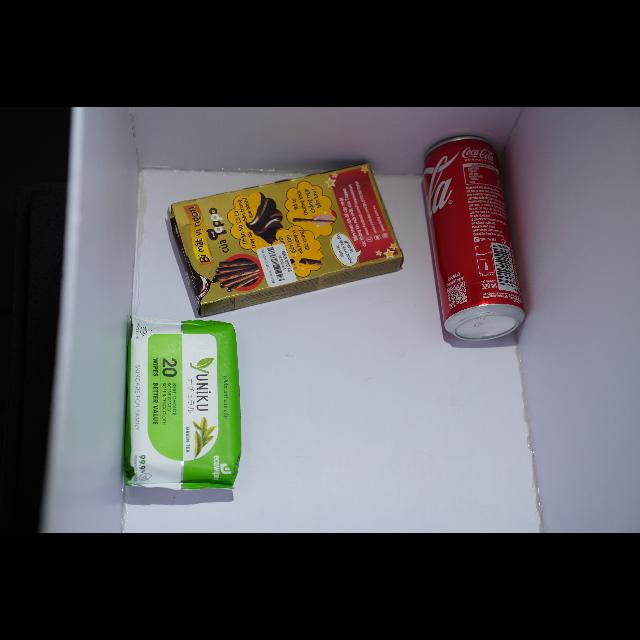banh_toppo_socola: (169, 163, 402, 316)
coca_cola: (423, 136, 525, 341)
khan_giay: (125, 316, 241, 490)
